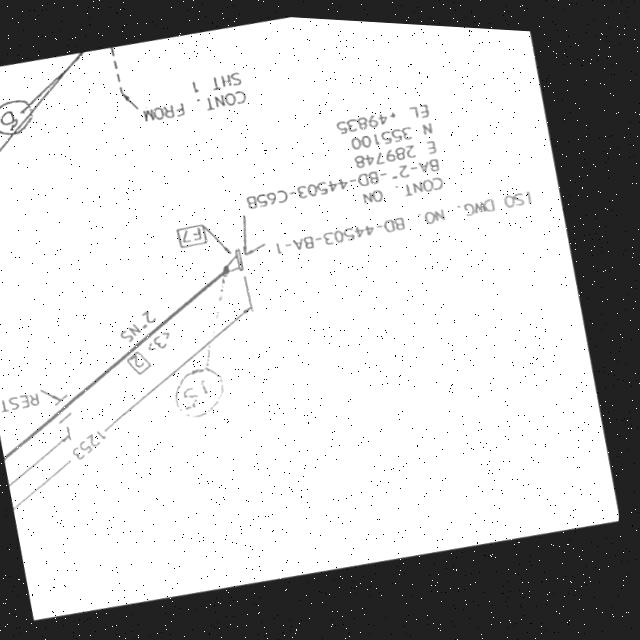Item number: (175, 218, 211, 249), (127, 346, 155, 375)
Measrement: (15, 305, 244, 516)
Symbol: (219, 239, 251, 277)
Weld number: (170, 355, 235, 424), (0, 92, 40, 139), (0, 63, 10, 70)
other: (232, 91, 449, 221), (265, 181, 544, 258), (135, 63, 250, 123), (0, 386, 47, 416)
